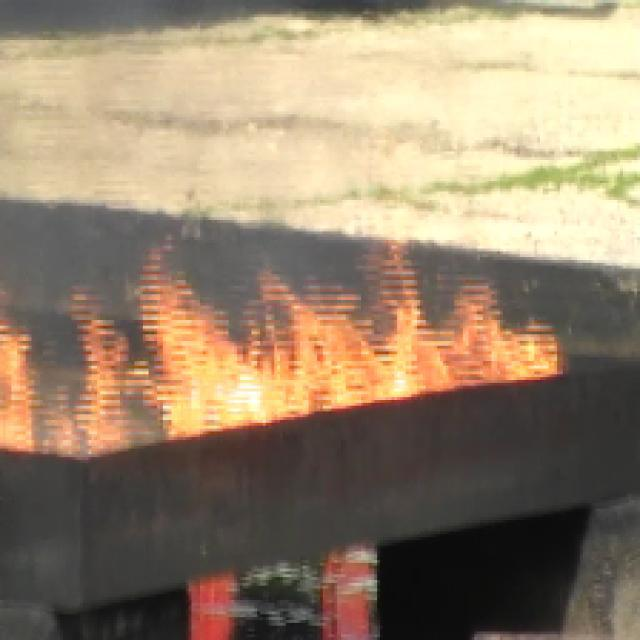Fire: (8, 288, 578, 442)
